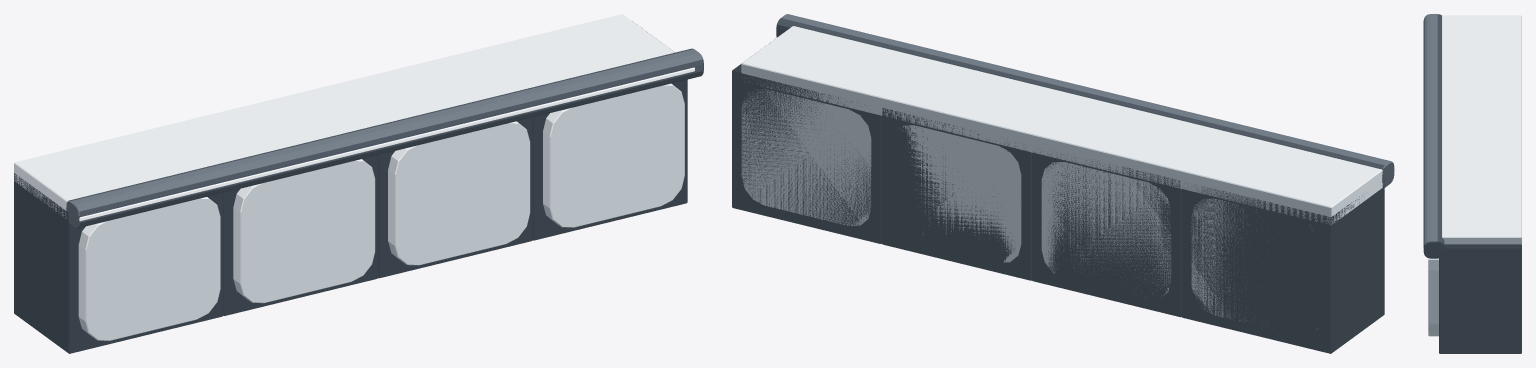
The model's file is Terrain_TopRun4R.gltf.
3 renders of one model, left to right at view 1: azimuth 30°, elevation 25°; view 2: azimuth 150°, elevation 25°; view 3: azimuth 270°, elevation 25°, orthographic. The views are drawn at different scales.
Parts seen in each view (by area): view 1: Terrain_TopRun4R_baked; view 2: Terrain_TopRun4R_baked; view 3: Terrain_TopRun4R_baked.
Part boxes in pixels (x1=…): Terrain_TopRun4R_baked: x1=14, y1=14, x2=703, y2=353; Terrain_TopRun4R_baked: x1=732, y1=14, x2=1394, y2=353; Terrain_TopRun4R_baked: x1=1423, y1=14, x2=1521, y2=353.
Bounding box in the file's own units: 4.04 × 0.9495 × 0.74.
